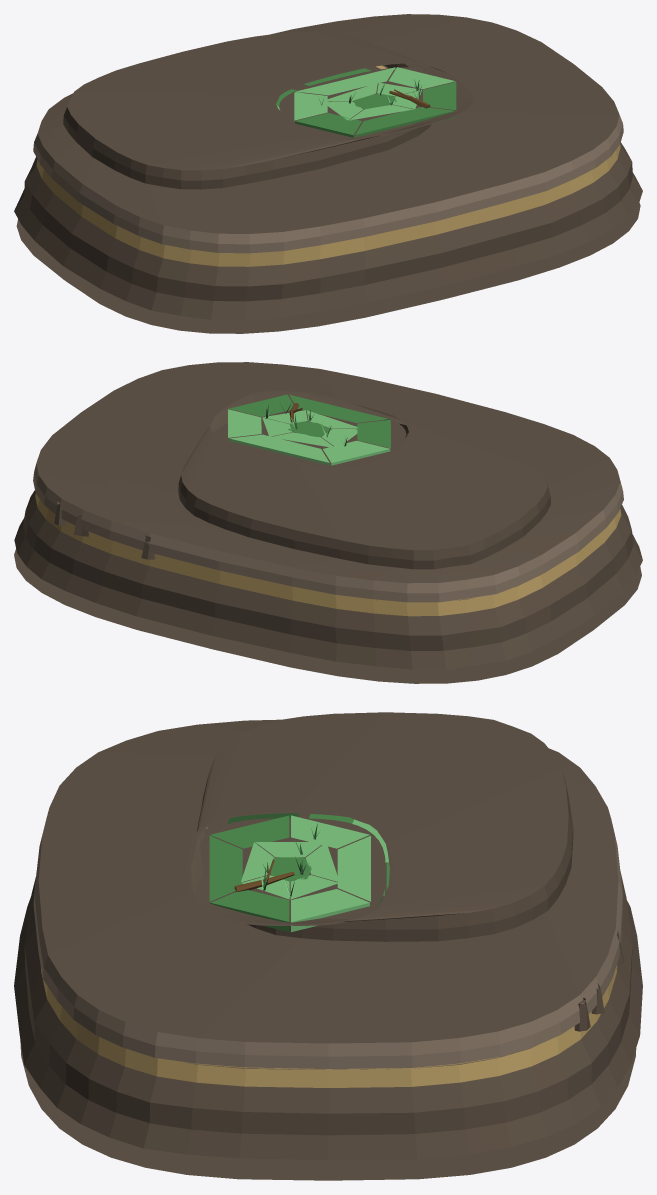
Rendered from TerraceIslandM.fbx.
3 renders of one model, top to bottom at view 1: azimuth 30°, elevation 25°; view 2: azimuth 150°, elevation 25°; view 3: azimuth 270°, elevation 25°, orthographic. The views are drawn at different scales.
Visible parts, largest first — view 1: TerraceIslandM; view 2: TerraceIslandM; view 3: TerraceIslandM.
Part boxes in pixels (box(x1,y1,x2,y2)): TerraceIslandM: box(14, 14, 642, 333); TerraceIslandM: box(14, 362, 642, 683); TerraceIslandM: box(14, 712, 642, 1180).
Size of the model in its own units: 2601 by 620 by 1973.
